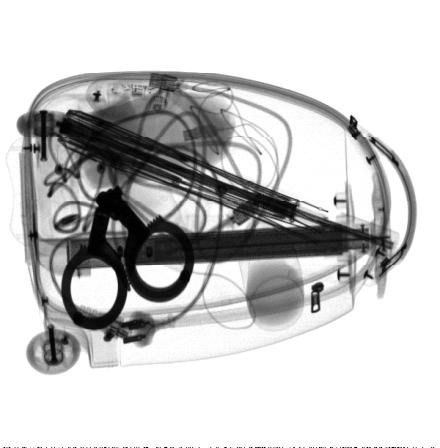HandCuffs: (61, 183, 195, 330)
